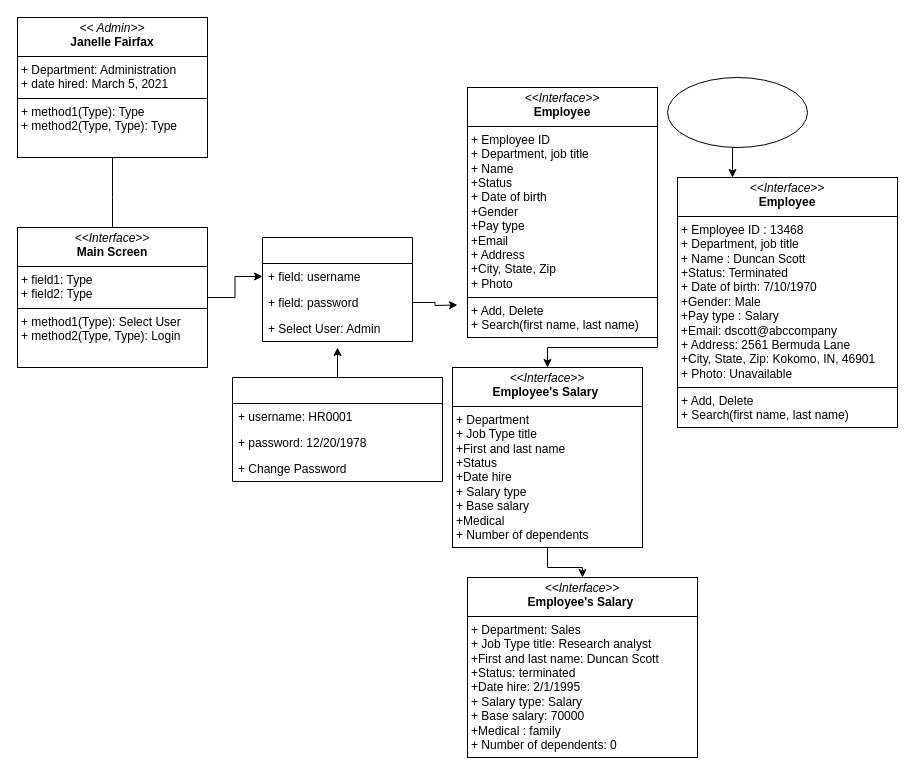
The diagram is 915 pixels wide and 775 high, and some of its shapes have lost their labels. Each missing label, with the box of its shape:
Initial Login: (232, 376, 442, 482)
Login: (262, 236, 412, 342)
Search: Duncan Scott: (666, 76, 808, 148)
